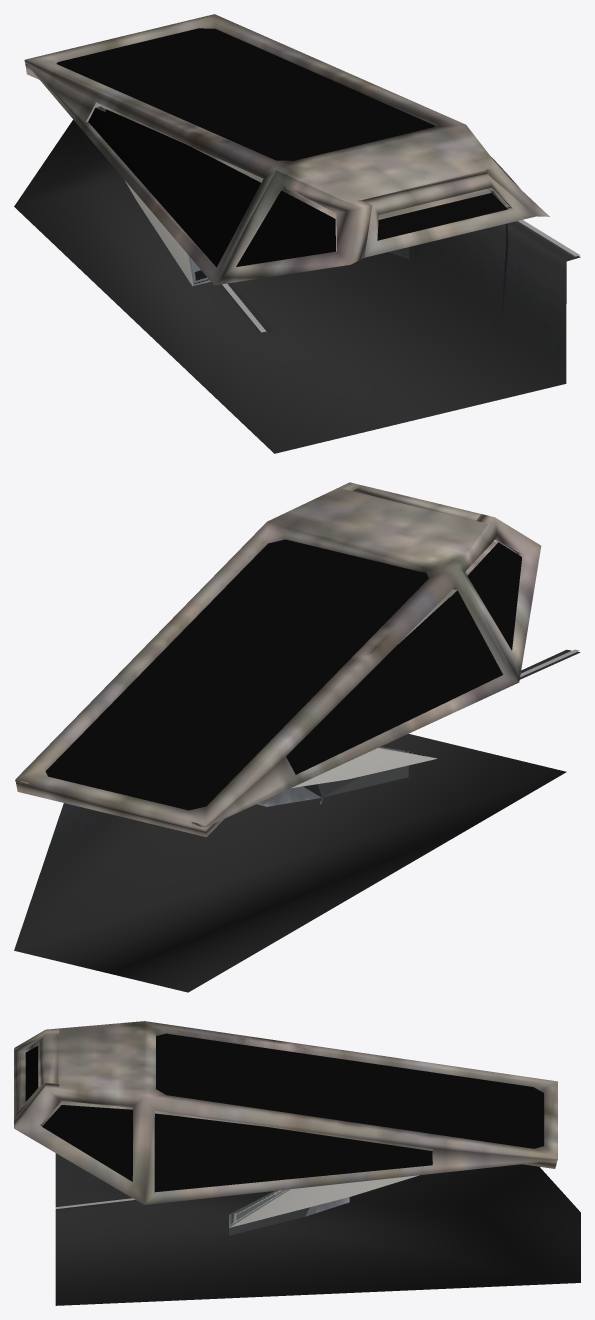
The model's file is xwing_cockpit.fbx.
3 renders of one model, top to bottom at view 1: azimuth 30°, elevation 25°; view 2: azimuth 150°, elevation 25°; view 3: azimuth 270°, elevation 25°, orthographic. The views are drawn at different scales.
Parts seen in each view (by area): view 1: xwing_cockpit_v5_Material0, xwing_canopy_Material1, xwing_fus_Material0; view 2: xwing_cockpit_v5_Material0, xwing_canopy_Material1, xwing_fus_Material0; view 3: xwing_cockpit_v5_Material0, xwing_canopy_Material1, xwing_fus_Material0.
Part boxes in pixels (x1=…): xwing_cockpit_v5_Material0: x1=14, y1=119, x2=580, y2=453; xwing_canopy_Material1: x1=56, y1=28, x2=507, y2=267; xwing_fus_Material0: x1=24, y1=14, x2=549, y2=285; xwing_cockpit_v5_Material0: x1=14, y1=649, x2=580, y2=992; xwing_canopy_Material1: x1=45, y1=539, x2=521, y2=810; xwing_fus_Material0: x1=15, y1=482, x2=541, y2=837; xwing_cockpit_v5_Material0: x1=55, y1=1108, x2=580, y2=1305; xwing_canopy_Material1: x1=25, y1=1033, x2=543, y2=1192; xwing_fus_Material0: x1=14, y1=1021, x2=557, y2=1204.
Bounding box in the file's own units: 376 × 260 × 699.
